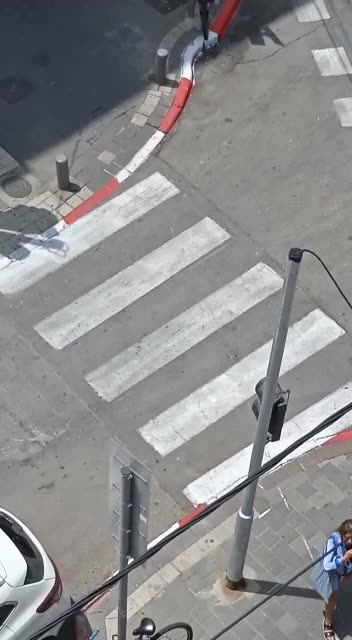crosswalk: (13, 196, 333, 469)
person: (313, 501, 352, 640)
